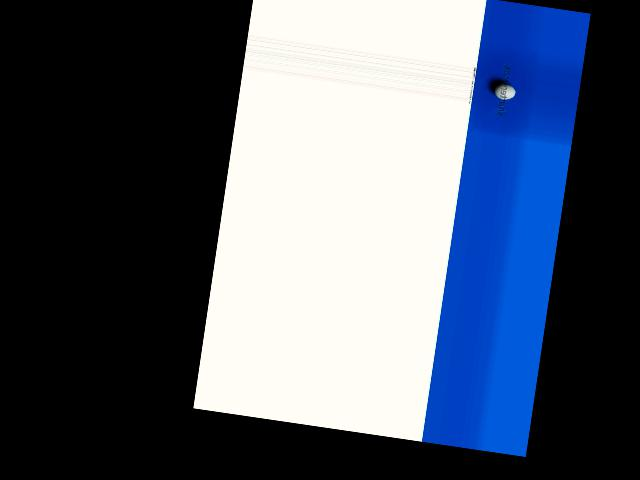egg: (492, 82, 517, 100)
